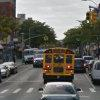Bus: (38, 43, 75, 81)
